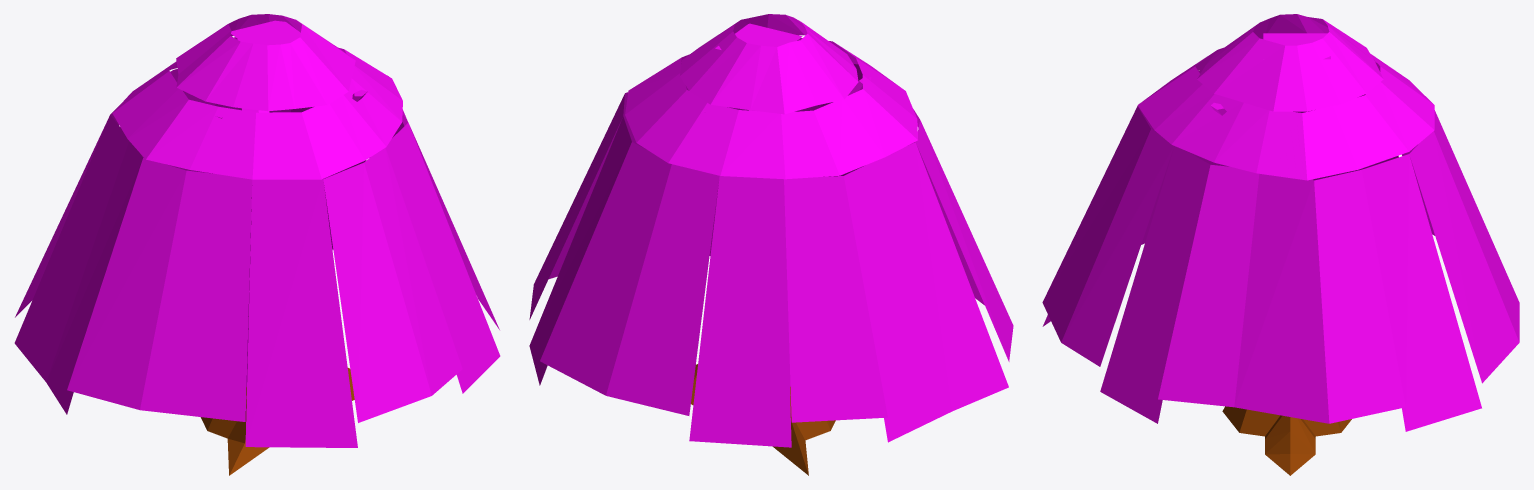
Rendered from willowtree.obj.
The picture shows the model from 3 angles, left to right: view 1: azimuth 30°, elevation 25°; view 2: azimuth 150°, elevation 25°; view 3: azimuth 270°, elevation 25°; orthographic projection.
Visible parts, largest first — view 1: willowtree_back; view 2: willowtree_back; view 3: willowtree_back.
Part boxes in pixels (x1,y1,x2,y2): willowtree_back: (14, 14, 500, 475); willowtree_back: (529, 14, 1013, 475); willowtree_back: (1042, 14, 1519, 475).
Size of the model in its own units: 2.93 by 2.48 by 2.81.
